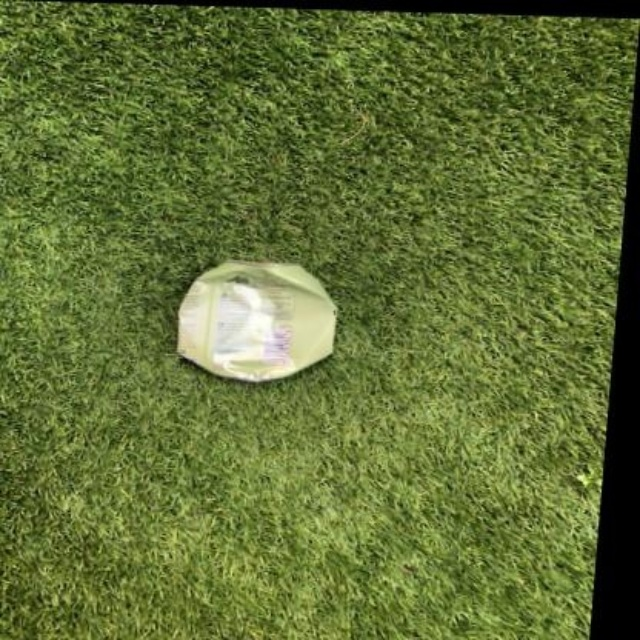trash: (177, 260, 335, 380)
